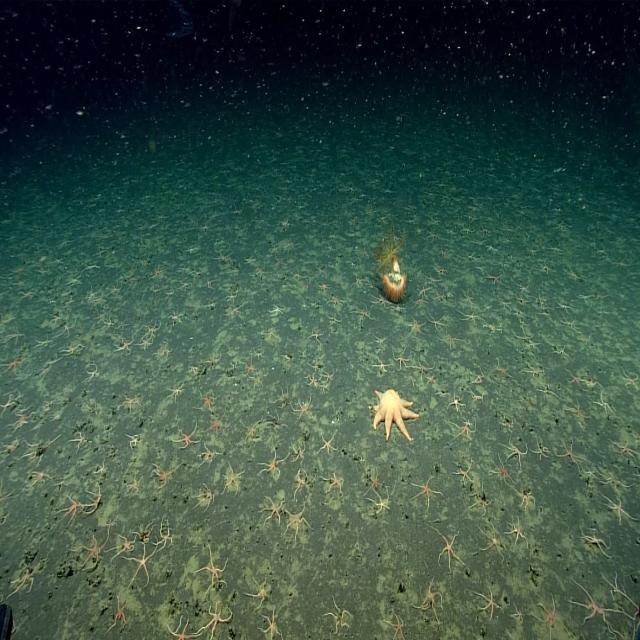brittle-stars: (572, 580, 610, 623), (77, 532, 108, 571), (201, 548, 228, 587), (202, 602, 232, 637), (132, 544, 157, 584), (437, 530, 463, 568), (535, 596, 559, 635), (530, 284, 556, 320), (11, 562, 37, 597), (412, 476, 439, 506), (602, 495, 628, 524), (262, 446, 287, 476), (584, 526, 609, 556), (285, 506, 307, 540), (480, 524, 502, 558), (419, 582, 441, 616), (326, 598, 348, 632), (476, 586, 500, 617), (558, 436, 581, 468), (494, 406, 517, 438), (603, 470, 630, 496), (622, 590, 640, 627), (170, 618, 200, 640), (612, 436, 637, 462), (175, 425, 199, 451), (224, 462, 244, 493), (262, 497, 284, 525), (368, 327, 390, 355), (471, 486, 492, 514), (262, 610, 282, 639), (248, 580, 268, 609), (112, 532, 136, 556), (110, 598, 128, 630), (61, 495, 83, 521), (154, 462, 176, 488), (50, 472, 72, 498), (197, 483, 216, 512), (492, 459, 511, 487), (507, 522, 526, 550), (506, 440, 528, 464), (207, 412, 227, 438), (386, 612, 404, 640), (34, 356, 58, 377), (87, 486, 104, 515), (453, 420, 475, 442), (26, 441, 49, 462), (372, 489, 392, 513), (326, 473, 346, 496), (29, 468, 52, 488), (158, 524, 175, 551), (2, 355, 26, 374), (11, 409, 32, 430), (45, 306, 64, 328), (596, 392, 614, 415), (441, 330, 461, 350), (349, 271, 369, 291), (182, 358, 200, 380), (455, 461, 472, 484), (245, 419, 262, 442), (319, 431, 336, 454), (167, 382, 186, 402), (524, 360, 544, 379), (199, 296, 218, 316), (432, 382, 451, 402), (295, 398, 313, 419), (622, 371, 640, 392), (123, 395, 142, 414), (509, 304, 528, 323), (566, 400, 584, 420), (518, 487, 534, 509), (201, 444, 217, 465), (532, 439, 548, 460), (612, 626, 636, 640), (414, 358, 432, 376), (459, 309, 478, 326), (393, 348, 409, 368), (566, 370, 582, 390), (60, 318, 76, 338), (294, 471, 308, 493), (276, 384, 290, 406), (427, 312, 444, 330), (6, 329, 24, 346), (436, 245, 454, 262), (200, 392, 216, 411), (409, 316, 425, 335), (354, 304, 370, 323), (128, 433, 144, 452), (127, 475, 143, 494), (72, 430, 88, 449), (450, 392, 465, 412), (138, 524, 153, 544), (162, 282, 177, 302), (538, 382, 555, 399), (144, 318, 160, 336), (485, 320, 503, 336), (0, 396, 16, 414), (292, 442, 305, 464), (513, 604, 526, 626), (366, 474, 381, 493), (0, 481, 10, 509), (116, 338, 132, 355), (485, 270, 502, 286), (374, 293, 391, 309), (2, 439, 18, 456), (520, 324, 536, 341), (159, 343, 174, 361), (115, 314, 130, 332), (281, 239, 299, 254), (64, 344, 83, 358), (296, 295, 310, 314), (87, 362, 100, 382), (468, 388, 484, 404), (566, 267, 582, 283), (207, 352, 221, 370), (564, 629, 586, 640), (375, 357, 390, 373), (36, 336, 52, 351), (579, 332, 594, 348), (469, 369, 483, 386), (554, 344, 568, 361), (104, 516, 118, 533), (88, 284, 101, 302), (271, 416, 284, 434), (65, 290, 76, 311), (271, 304, 287, 318), (328, 310, 342, 326), (266, 240, 280, 256), (496, 359, 509, 376), (561, 319, 576, 333), (537, 260, 550, 276), (21, 288, 37, 301), (96, 459, 108, 476), (251, 372, 263, 389), (68, 274, 82, 288), (425, 274, 439, 288), (139, 338, 153, 352), (85, 262, 99, 276), (310, 329, 323, 344), (245, 358, 257, 374), (330, 294, 346, 306), (109, 281, 121, 297), (204, 277, 217, 291), (170, 312, 183, 326), (557, 301, 571, 314), (516, 294, 530, 307), (322, 370, 334, 385), (435, 288, 447, 303), (318, 280, 331, 293), (230, 305, 243, 318), (417, 285, 430, 298), (428, 234, 441, 247), (463, 249, 476, 262), (152, 266, 164, 280), (307, 374, 319, 388), (426, 374, 438, 388), (462, 289, 473, 304), (268, 324, 278, 340), (244, 253, 256, 266), (586, 465, 598, 478), (461, 222, 473, 235), (254, 266, 267, 278), (499, 296, 511, 309), (551, 242, 564, 254), (436, 265, 448, 278), (217, 251, 230, 263), (359, 246, 370, 260), (282, 351, 293, 365), (587, 377, 598, 391), (180, 279, 192, 291), (518, 282, 530, 294), (292, 270, 304, 282), (252, 348, 264, 360), (310, 360, 322, 372), (463, 211, 475, 223), (444, 225, 456, 237), (580, 291, 593, 302), (231, 265, 242, 278), (414, 296, 427, 307), (95, 307, 105, 321), (178, 264, 189, 276), (226, 290, 237, 302), (393, 305, 405, 316), (55, 254, 66, 266), (486, 240, 498, 251), (105, 316, 115, 329), (481, 224, 492, 235), (320, 382, 330, 394), (274, 255, 284, 267), (282, 218, 291, 230)
